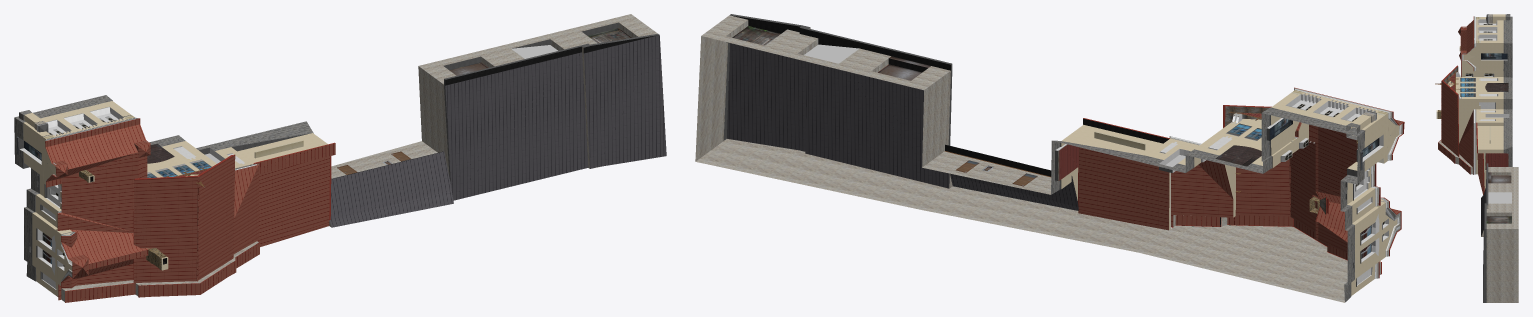
The model's file is Aia_12-origo.obj.
3 renders of one model, left to right at view 1: azimuth 30°, elevation 25°; view 2: azimuth 150°, elevation 25°; view 3: azimuth 270°, elevation 25°, orthographic. The views are drawn at different scales.
Parts seen in each view (by area): view 1: Aia_12; view 2: Aia_12; view 3: Aia_12.
Part boxes in pixels (<box>): Aia_12: <box>14,14,666,302</box>; Aia_12: <box>695,14,1404,302</box>; Aia_12: <box>1435,14,1518,302</box>.
Bounding box in the file's own units: 56.88 × 15.5 × 11.21.
